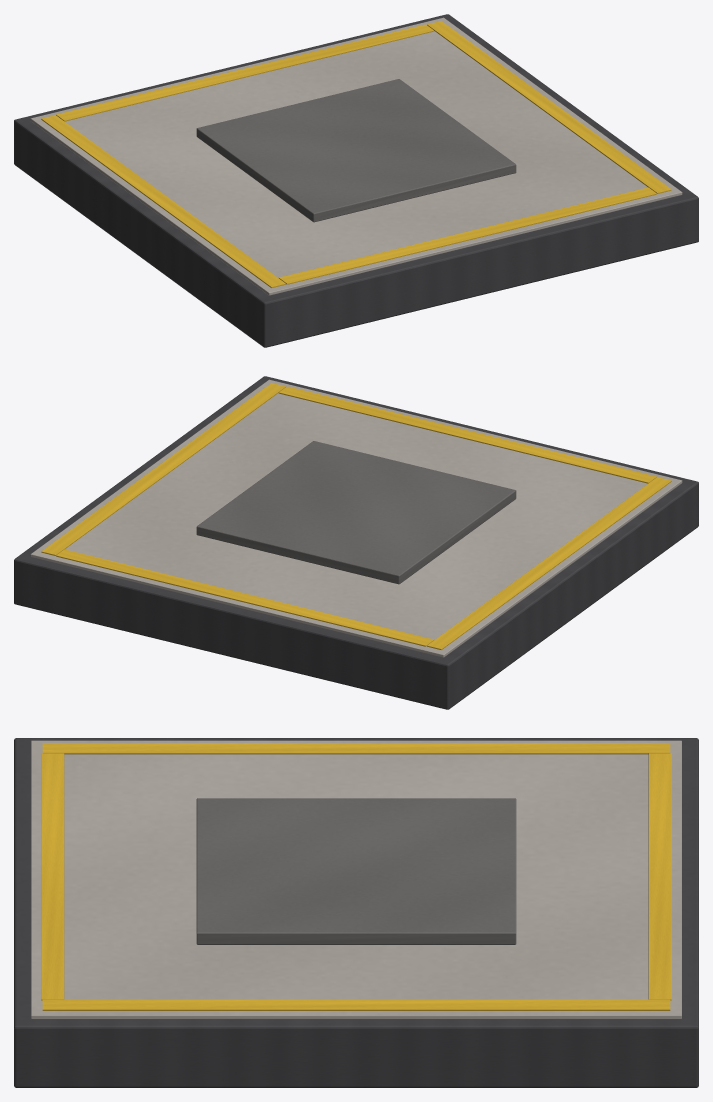
File: assembly_platform.glb
The picture shows the model from 3 angles, top to bottom: view 1: azimuth 30°, elevation 25°; view 2: azimuth 150°, elevation 25°; view 3: azimuth 270°, elevation 25°; orthographic projection. The views are drawn at different scales.
Visible parts, largest first — view 1: surface, platform.001, mounting_pad, safety_edge.002, safety_edge.003, safety_edge, safety_edge.001; view 2: surface, platform.001, mounting_pad, safety_edge.002, safety_edge.003, safety_edge, safety_edge.001; view 3: surface, platform.001, mounting_pad, safety_edge.001, safety_edge, safety_edge.002, safety_edge.003.
Part boxes in pixels (<box>): surface: <box>30,17,682,295</box>; platform.001: <box>14,14,698,347</box>; mounting_pad: <box>196,79,516,222</box>; safety_edge.002: <box>279,187,656,284</box>; safety_edge.003: <box>56,24,433,121</box>; safety_edge: <box>41,115,285,287</box>; safety_edge.001: <box>427,21,671,193</box>; surface: <box>30,379,682,657</box>; platform.001: <box>14,376,698,709</box>; mounting_pad: <box>196,441,516,584</box>; safety_edge.002: <box>279,386,656,483</box>; safety_edge.003: <box>56,549,433,646</box>; safety_edge: <box>427,477,671,649</box>; safety_edge.001: <box>41,383,285,555</box>; surface: <box>31,740,681,1019</box>; platform.001: <box>14,738,698,1087</box>; mounting_pad: <box>196,798,516,944</box>; safety_edge.001: <box>42,999,670,1010</box>; safety_edge: <box>42,743,670,754</box>; safety_edge.002: <box>41,753,64,1000</box>; safety_edge.003: <box>648,753,671,1000</box>.
Bounding box in the file's own units: 3 × 0.38 × 3.
4 materials, 4 textured.
